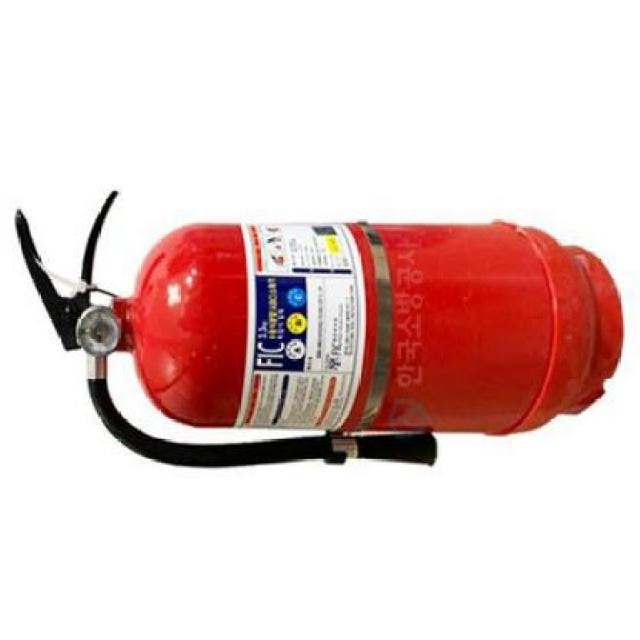fire extinguisher: (13, 189, 624, 469)
